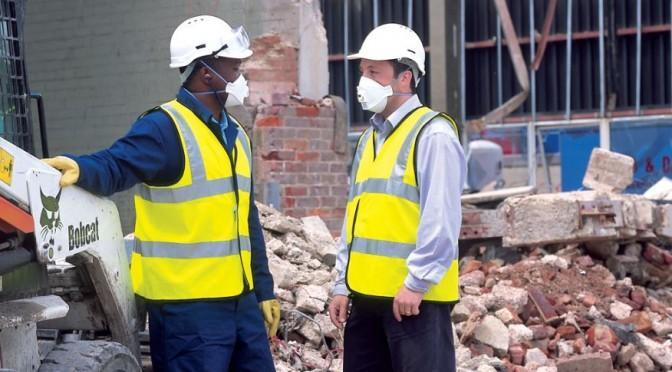helmet: (153, 11, 269, 68), (343, 27, 443, 74)
person: (113, 8, 290, 368), (327, 24, 466, 372)
vest: (135, 100, 258, 298), (345, 112, 466, 302)
